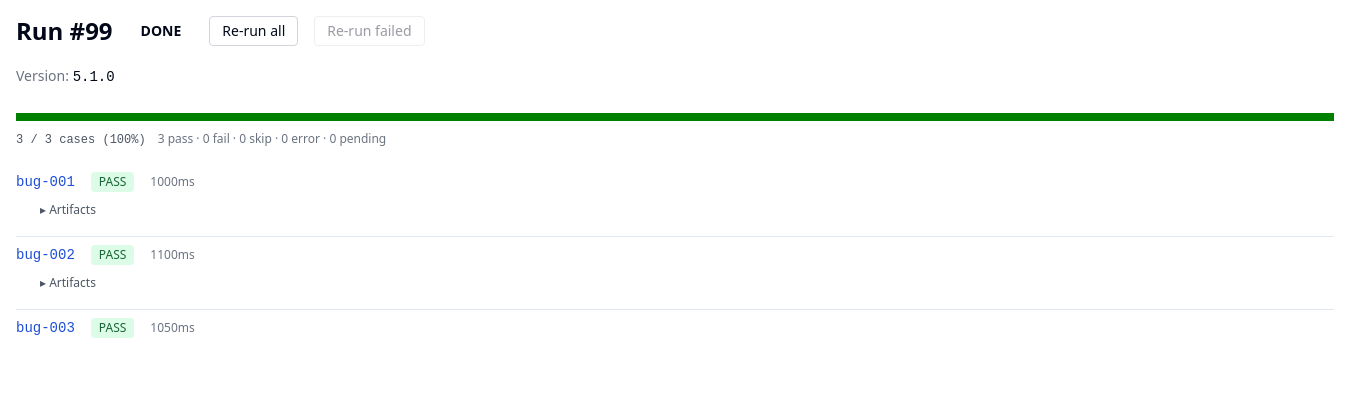
RunDetailPage › fetch failure on View shows error; Download link still works
Click the button with test id "artifacts-toggle-bug-001" at (68, 210), box [40,202,96,218]
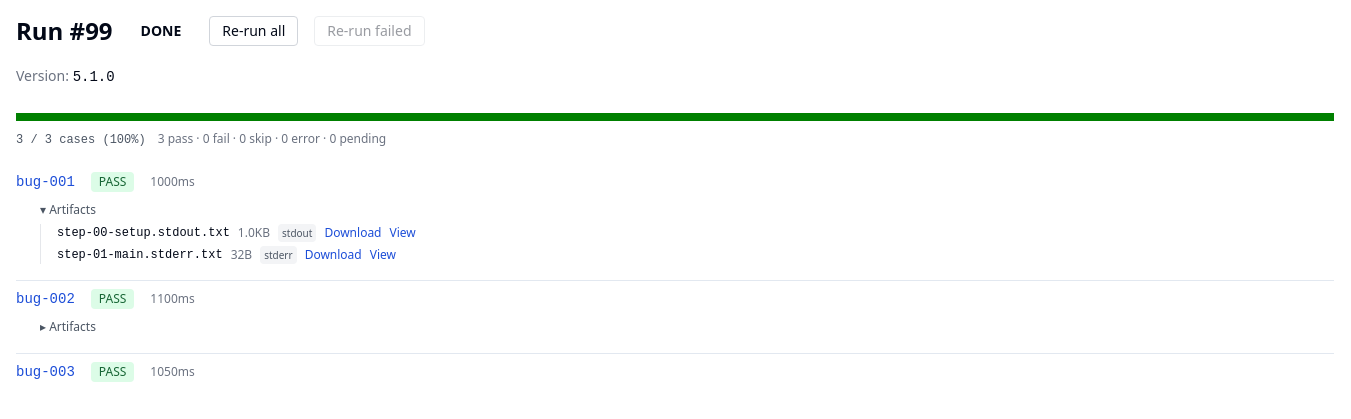
expect the list with test id "artifacts-list-bug-001" is shown: met, box [57,224,416,264]
// Click View
Click the button with test id "artifact-view-bug-001-step-00-setup.stdout.txt" at (403, 233), box [390,225,416,241]
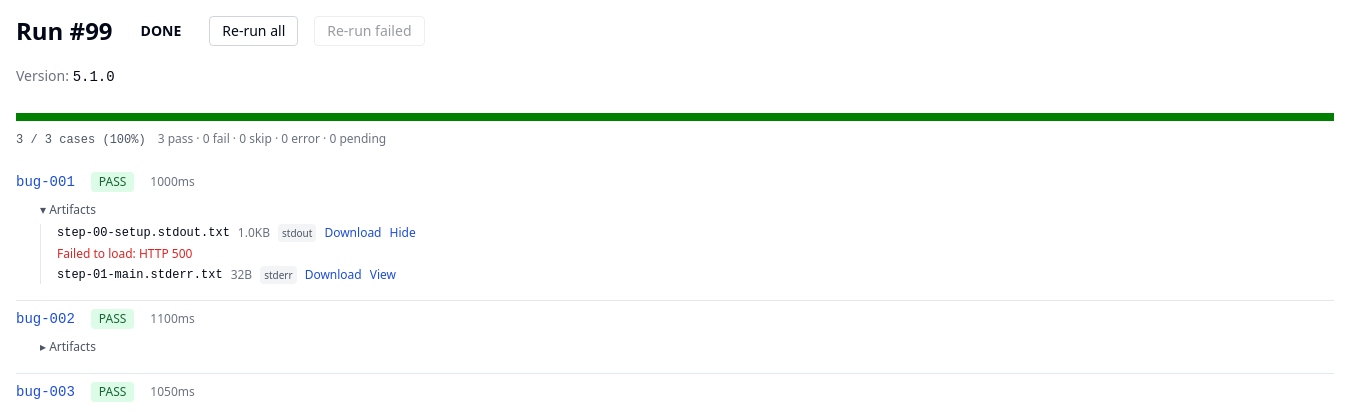
expect the link with test id "artifact-download-bug-001-step-00-setup.stdout.txt" is shown: met, box [324,225,382,241]
expect the text "Failed to load: HTTP 500" is shown: met, box [57,245,192,262]
